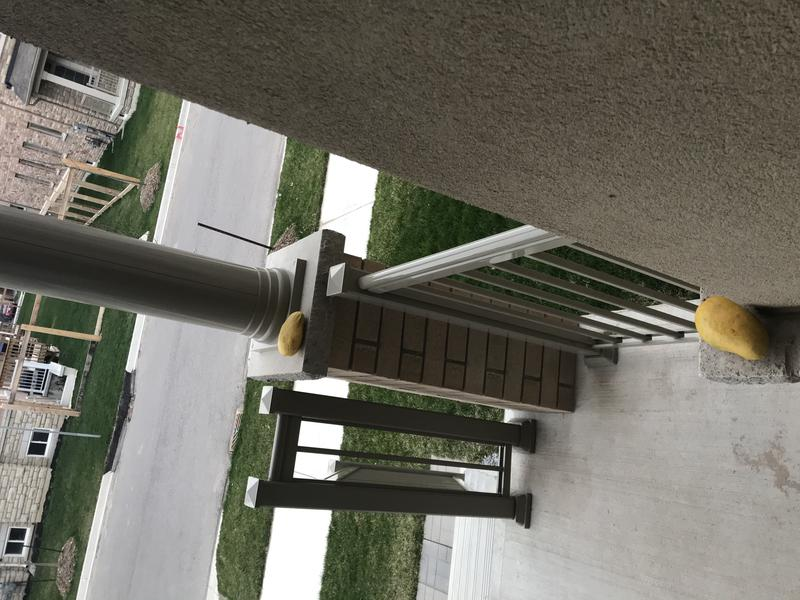mango: (692, 292, 775, 375), (272, 306, 316, 365)
